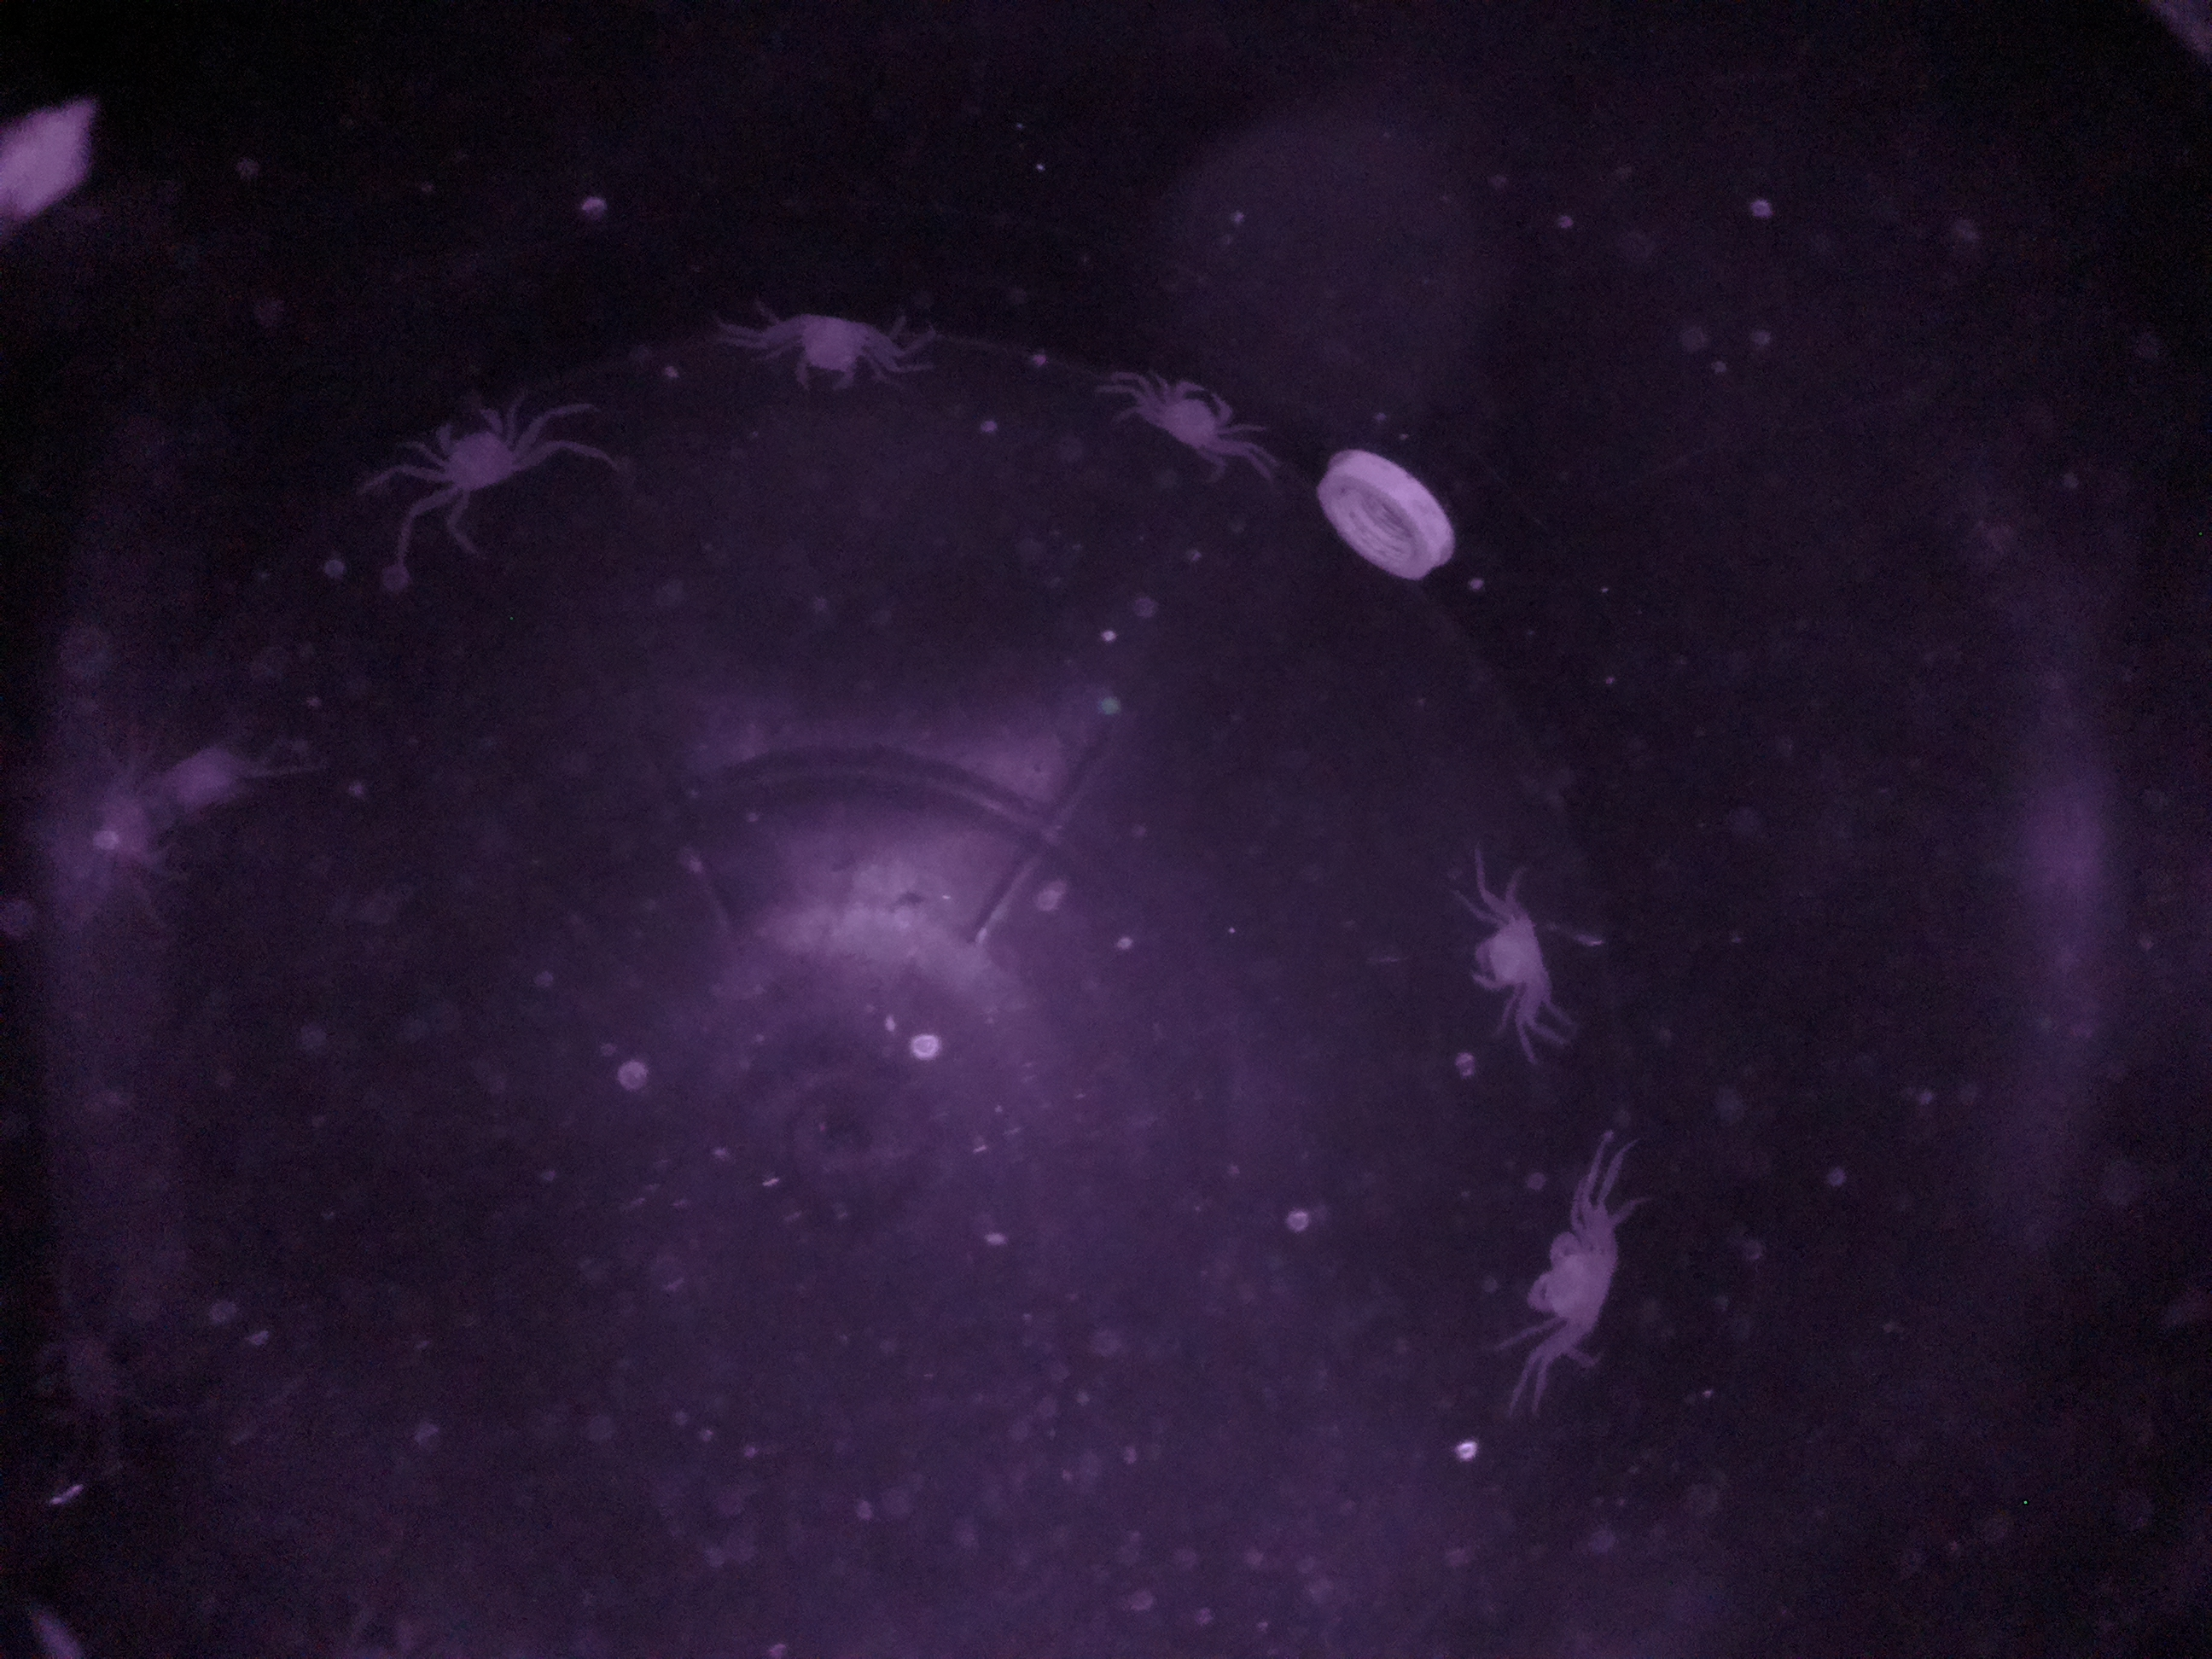Crab: (1505, 1202, 1634, 1370), (402, 385, 552, 519), (1460, 896, 1576, 1032), (765, 293, 887, 401), (1139, 362, 1249, 476)
